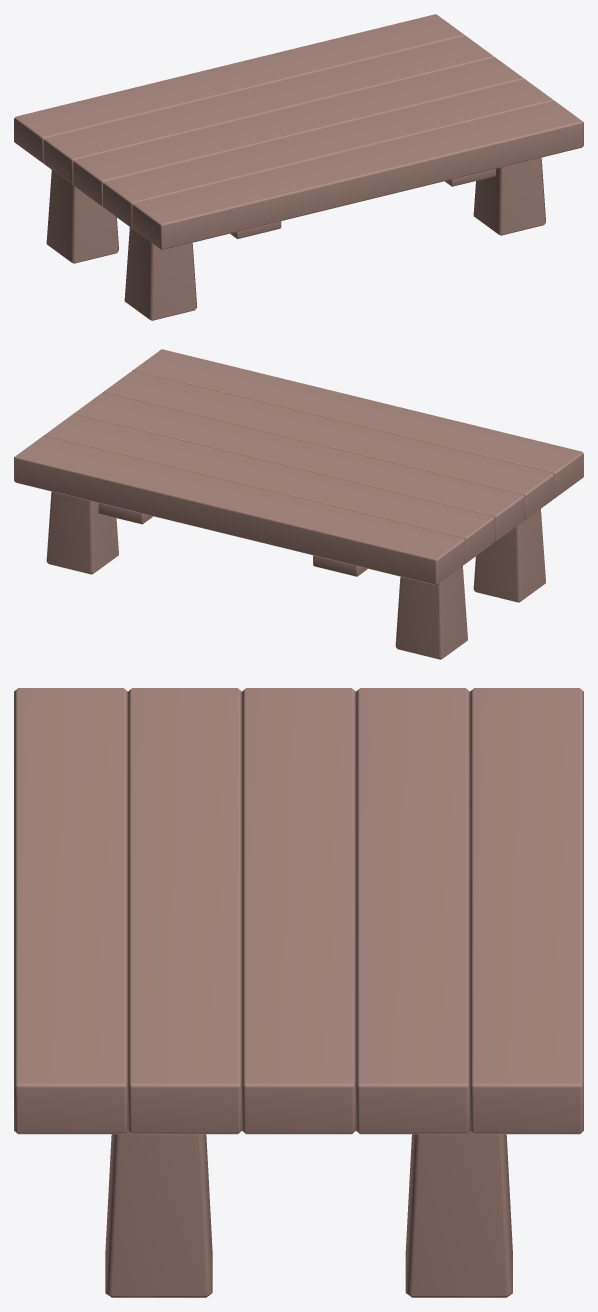
Rendered from Farm_5_Stand_1.glb.
3 renders of one model, top to bottom at view 1: azimuth 30°, elevation 25°; view 2: azimuth 150°, elevation 25°; view 3: azimuth 270°, elevation 25°, orthographic. The views are drawn at different scales.
Visible parts, largest first — view 1: Farm_5_Stand_1; view 2: Farm_5_Stand_1; view 3: Farm_5_Stand_1.
Boxes of the visible parts, left/top/right/bottom form: Farm_5_Stand_1: left=14, top=14, right=583, bottom=320; Farm_5_Stand_1: left=14, top=349, right=583, bottom=659; Farm_5_Stand_1: left=14, top=688, right=583, bottom=1297.
Size of the model in its own units: 1.55 by 0.4161 by 0.9398.
Materials: 1 (1 with a texture image).
